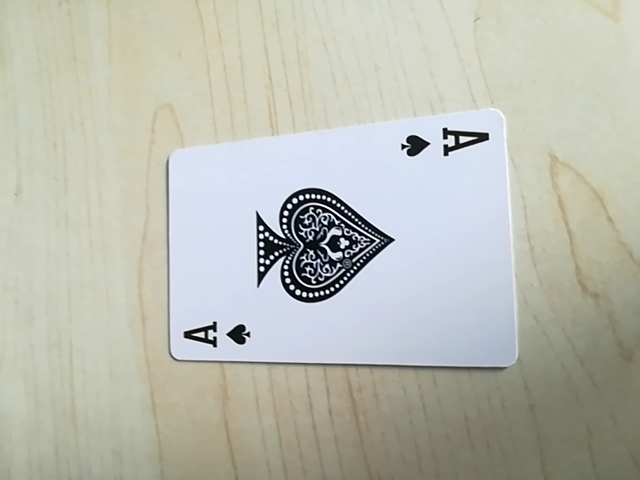ht a: (397, 122, 491, 168), (176, 316, 252, 357)
